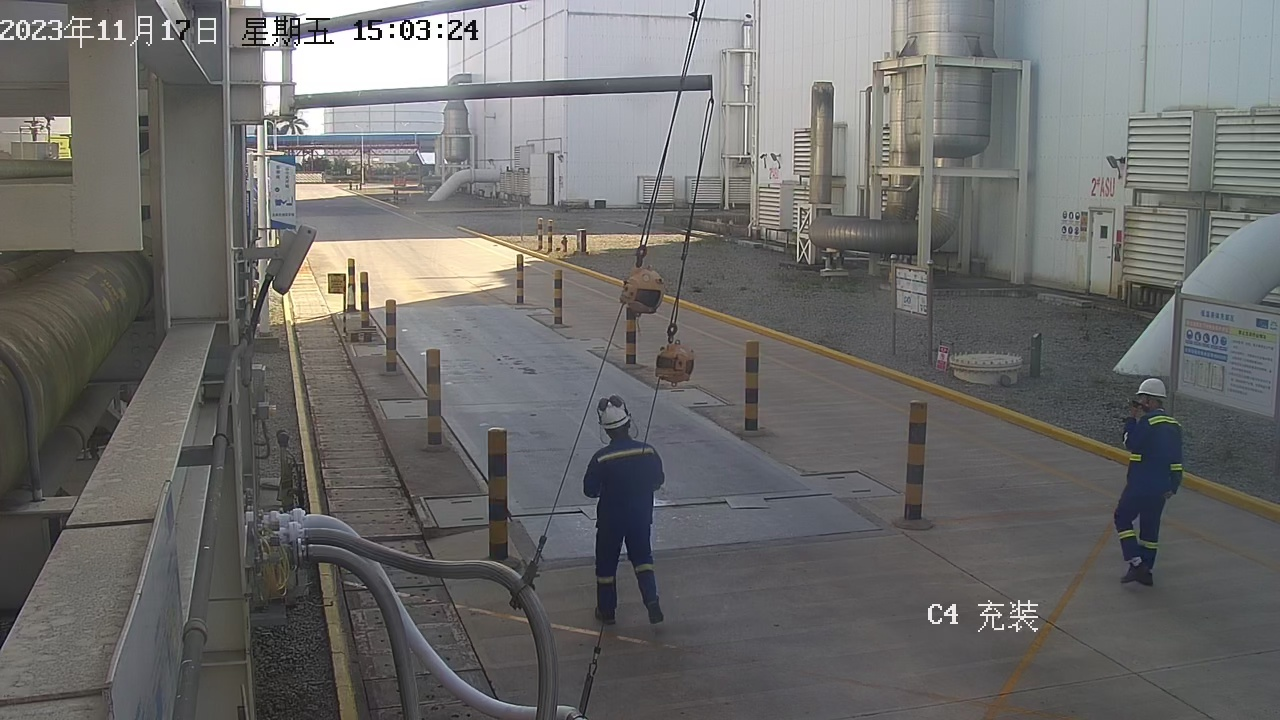Head_with_Helmet: (575, 386, 650, 445), (1114, 366, 1179, 418)
Uniform: (560, 428, 699, 646), (1093, 401, 1208, 596)
